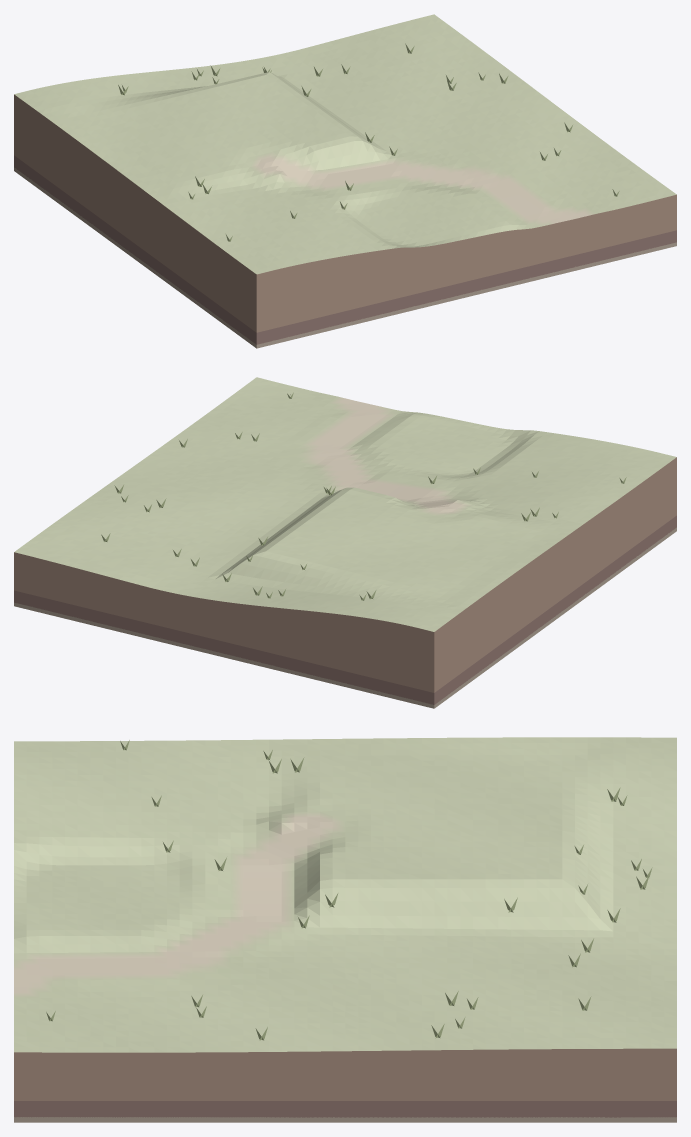
Rendered from D09_proc.glb.
3 renders of one model, top to bottom at view 1: azimuth 30°, elevation 25°; view 2: azimuth 150°, elevation 25°; view 3: azimuth 270°, elevation 25°, orthographic. The views are drawn at different scales.
Visible parts, largest first — view 1: proc_ground, proc_skirt, proc_grass; view 2: proc_ground, proc_skirt, proc_grass; view 3: proc_ground, proc_skirt, proc_grass.
Part boxes in pixels (left/top/right/bottom): proc_ground: left=14, top=14, right=676, bottom=274; proc_skirt: left=14, top=94, right=676, bottom=348; proc_grass: left=118, top=43, right=619, bottom=241; proc_ground: left=14, top=377, right=676, bottom=631; proc_skirt: left=14, top=457, right=676, bottom=708; proc_grass: left=101, top=392, right=626, bottom=600; proc_ground: left=14, top=737, right=676, bottom=1052; proc_skirt: left=14, top=1048, right=676, bottom=1122; proc_grass: left=46, top=740, right=652, bottom=1040.
Bounding box in the file's own units: 8 × 1.54 × 8.
